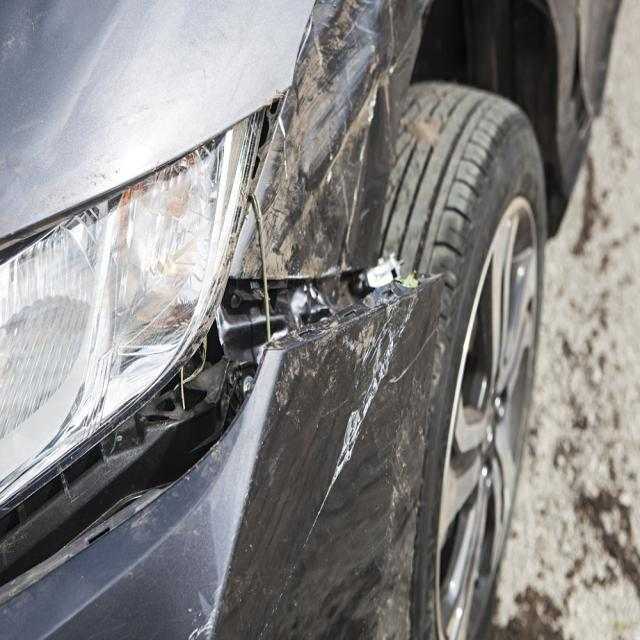scratch: (300, 294, 421, 552)
